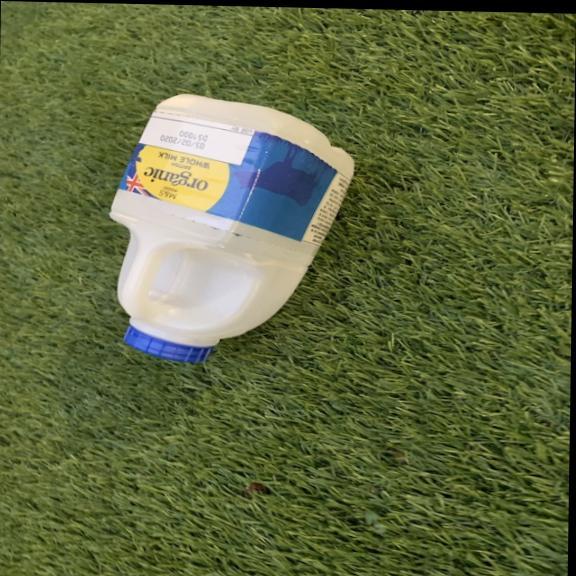Plastik: (103, 86, 359, 368)
